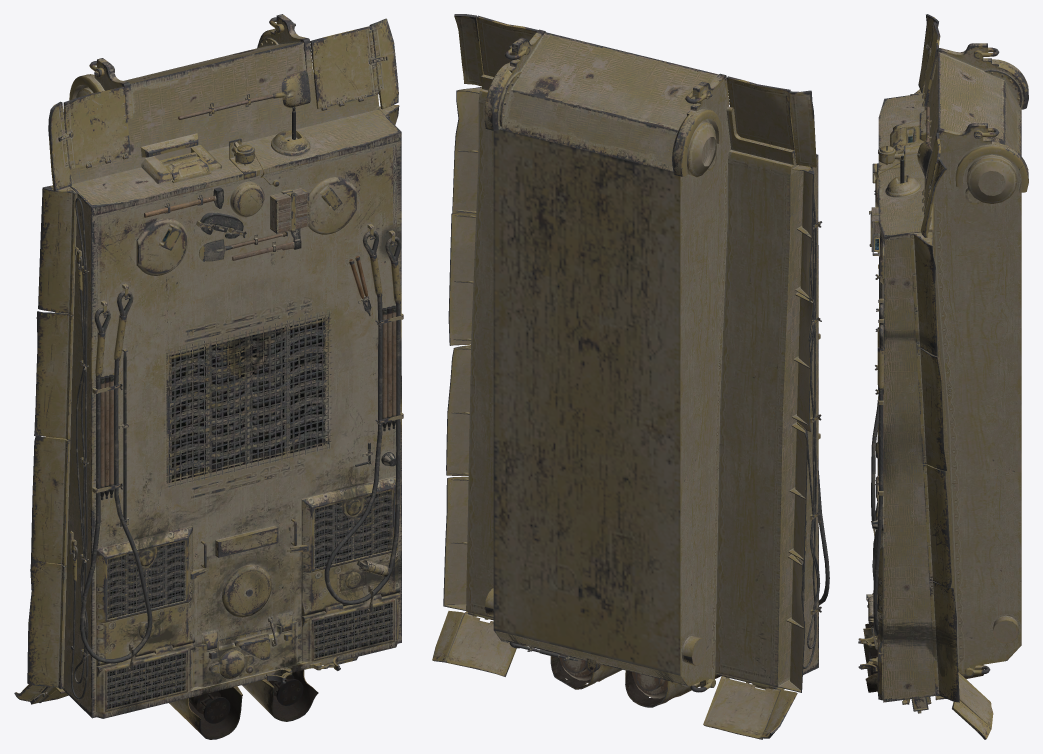
The model's file is Hull.glb.
The picture shows the model from 3 angles, left to right: view 1: azimuth 30°, elevation 25°; view 2: azimuth 150°, elevation 25°; view 3: azimuth 270°, elevation 25°; orthographic projection. The views are drawn at different scales.
Parts seen in each view (by area): view 1: set_0_group_0; view 2: set_0_group_0; view 3: set_0_group_0.
Part boxes in pixels (x1,y1,x2,y2): set_0_group_0: [14, 14, 403, 739]; set_0_group_0: [432, 14, 829, 739]; set_0_group_0: [858, 14, 1028, 739].
Bounding box in the file's own units: 3.73 × 6.38 × 1.67.
1 material, 1 textured.
